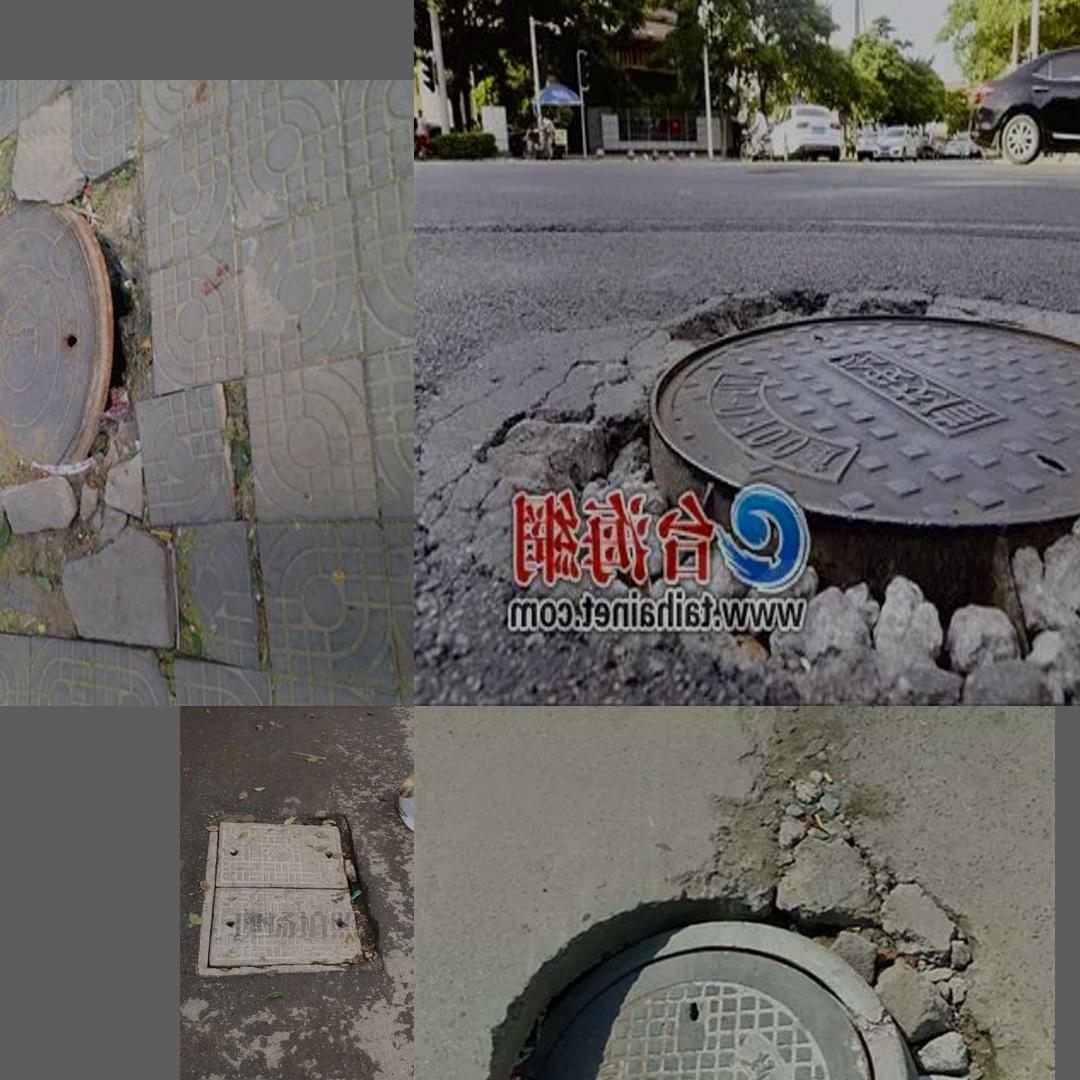circle: (458, 284, 1080, 663), (487, 759, 992, 1080), (0, 160, 178, 654), (199, 815, 384, 975)
